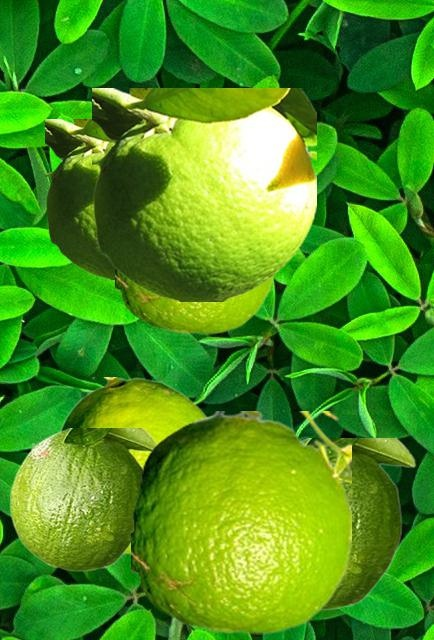dalandan: (131, 411, 350, 633), (92, 88, 315, 300), (57, 377, 207, 553), (9, 428, 156, 570), (301, 438, 415, 609), (45, 119, 114, 278), (115, 270, 273, 333)
